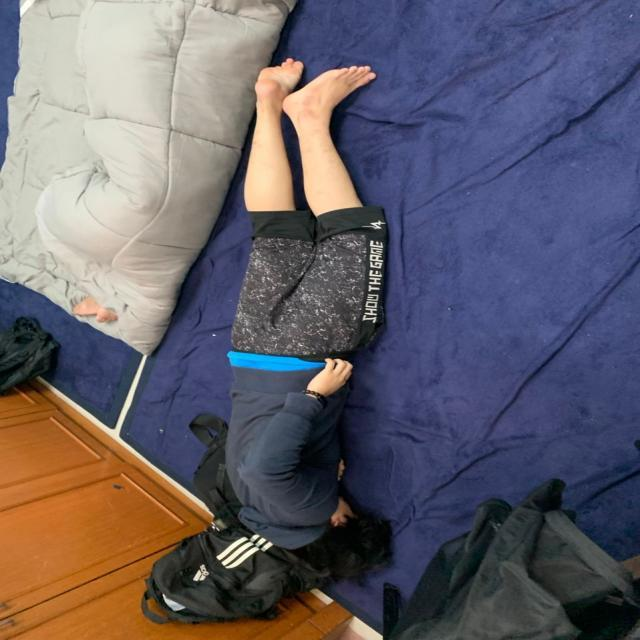fall: (215, 54, 386, 578)
